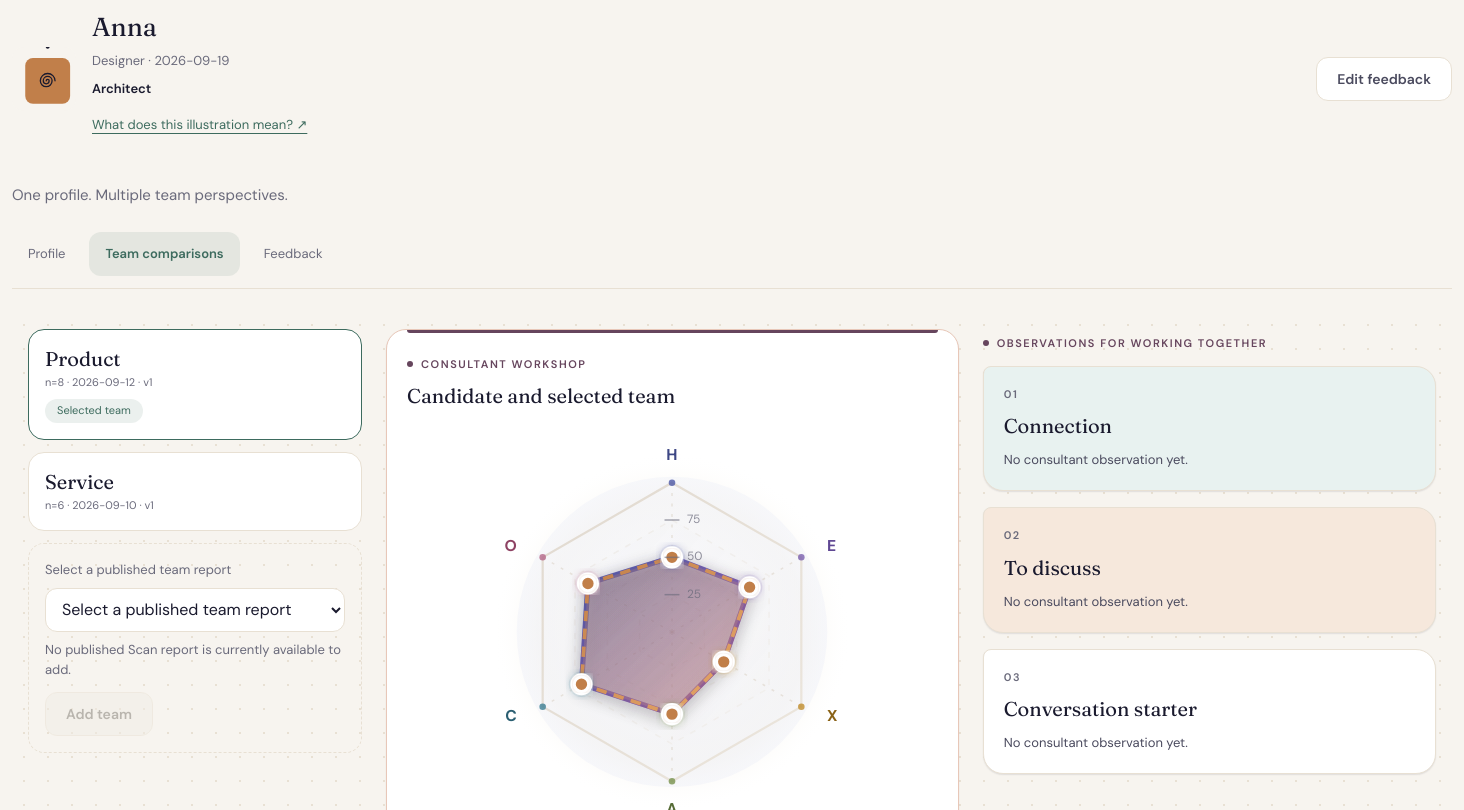
Scenario: switches team reference without ranking and protects unsaved consultant observations
Click the button "Service n=6 · 2026-09-10 · v1": (79, 481) [45,469,345,514]
(page scrolled)
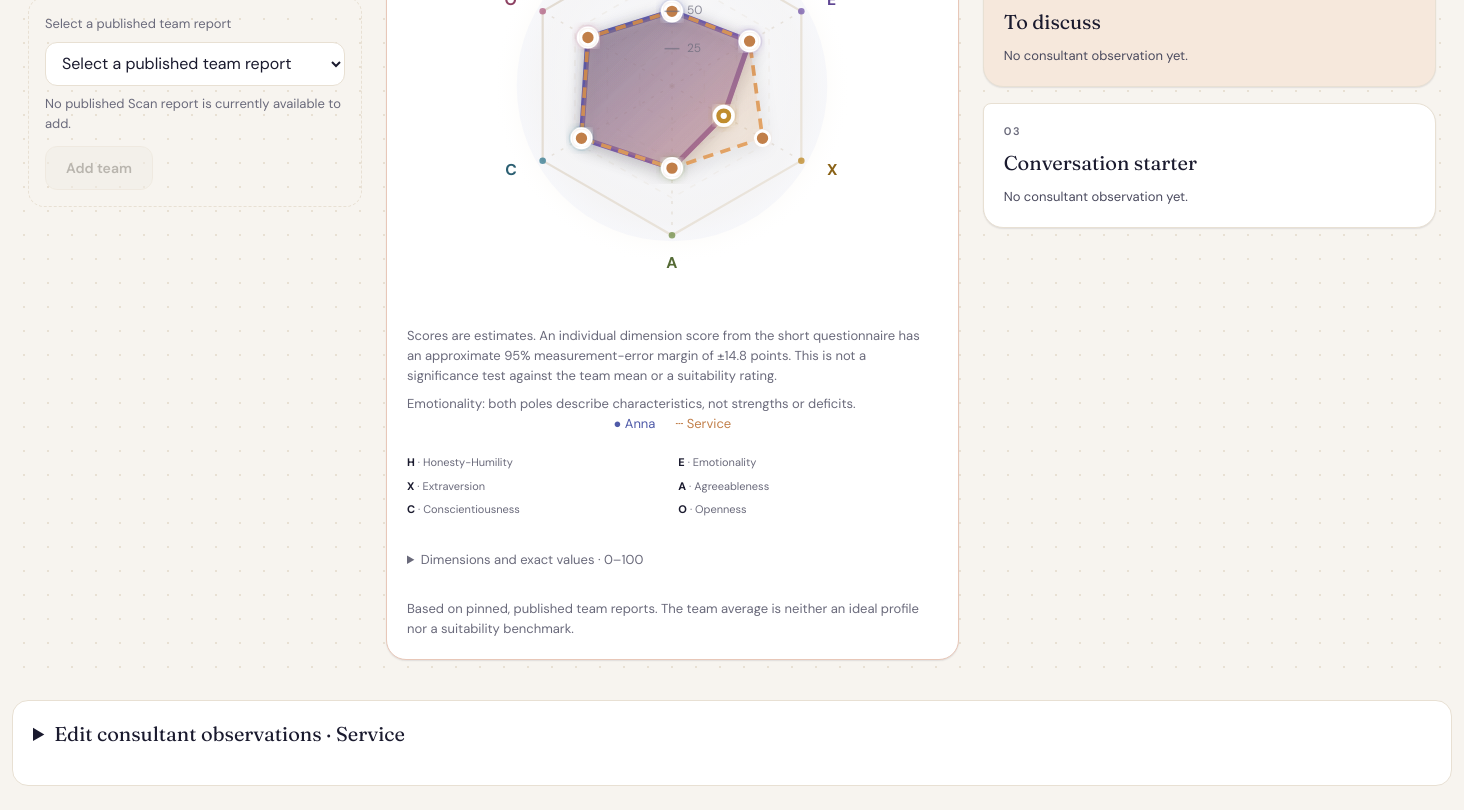
Click the heading "Edit consultant observations · Service": (230, 733) [54,721,405,746]
(page scrolled)
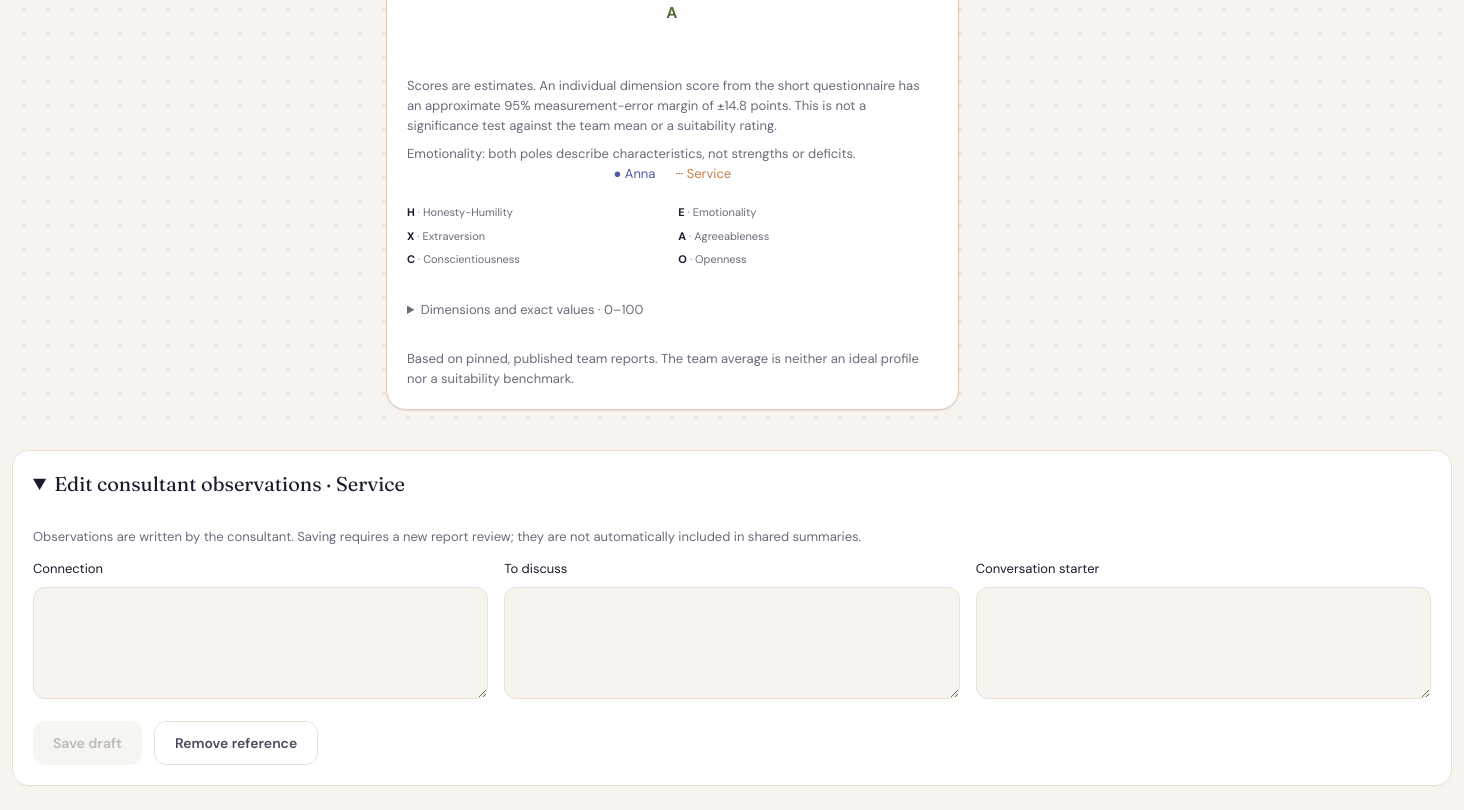
In the text box labelled "Connection": (261, 643) [33,587,488,699], type "Discuss collaboration"
(page scrolled)
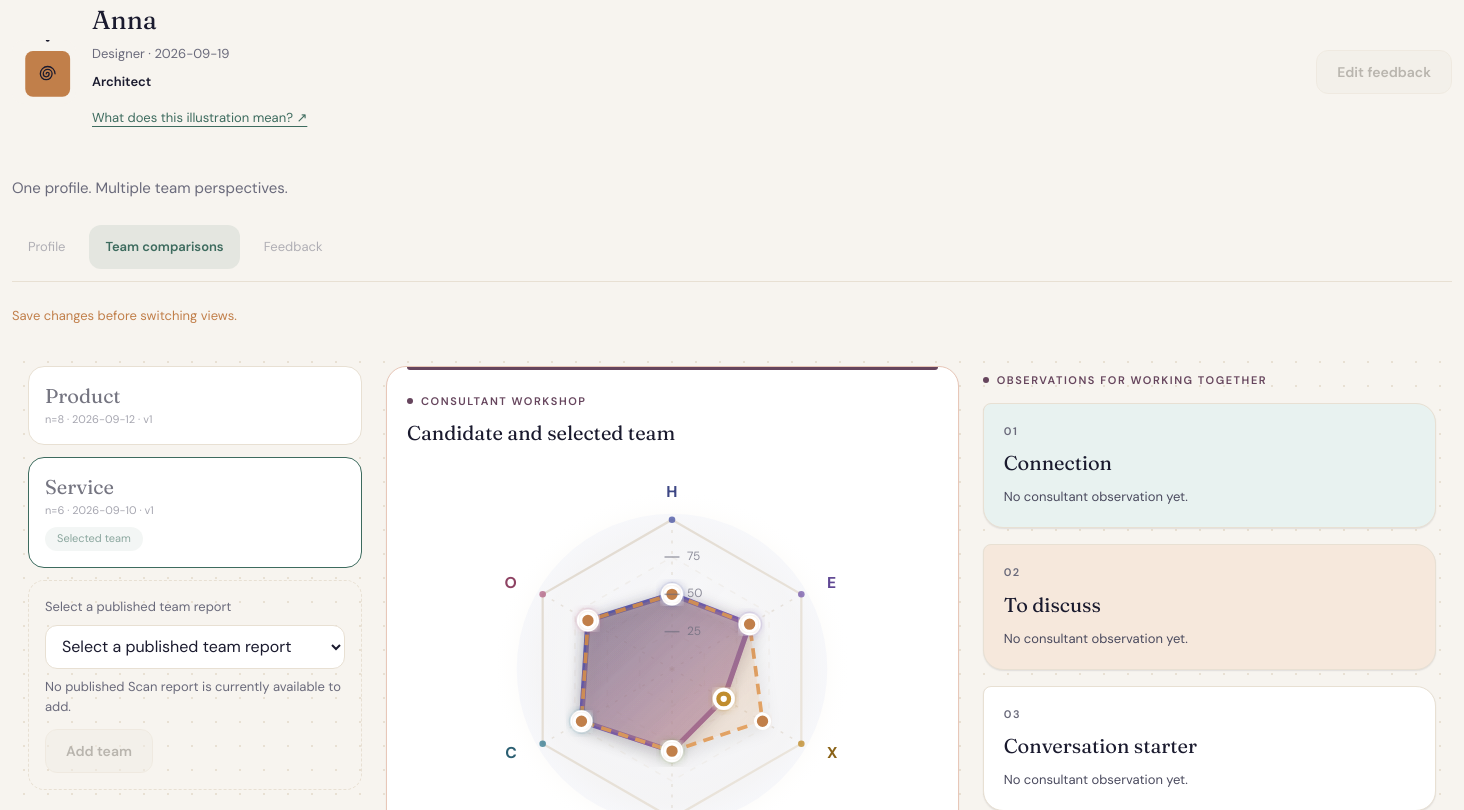
Expected: the tab "Feedback" is disabled, [248,225,338,269]
Expected: the button "Product n=8 · 2026-09-12 · v1" is disabled, [45,383,345,428]
